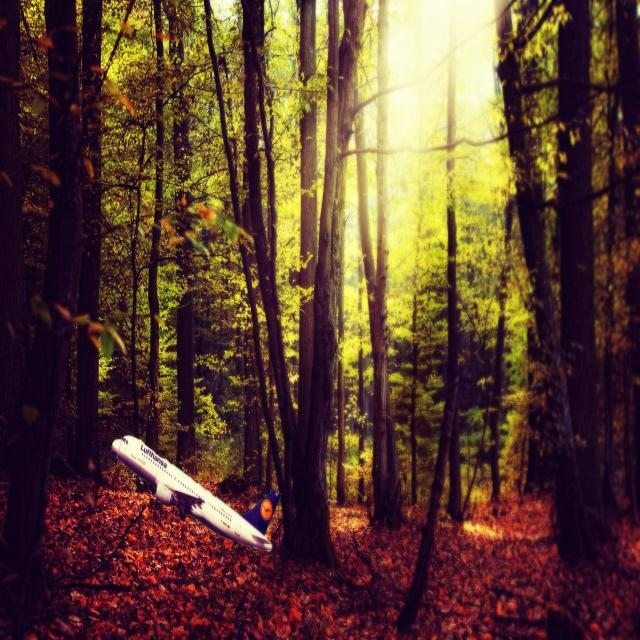airplane: (111, 433, 281, 554)
